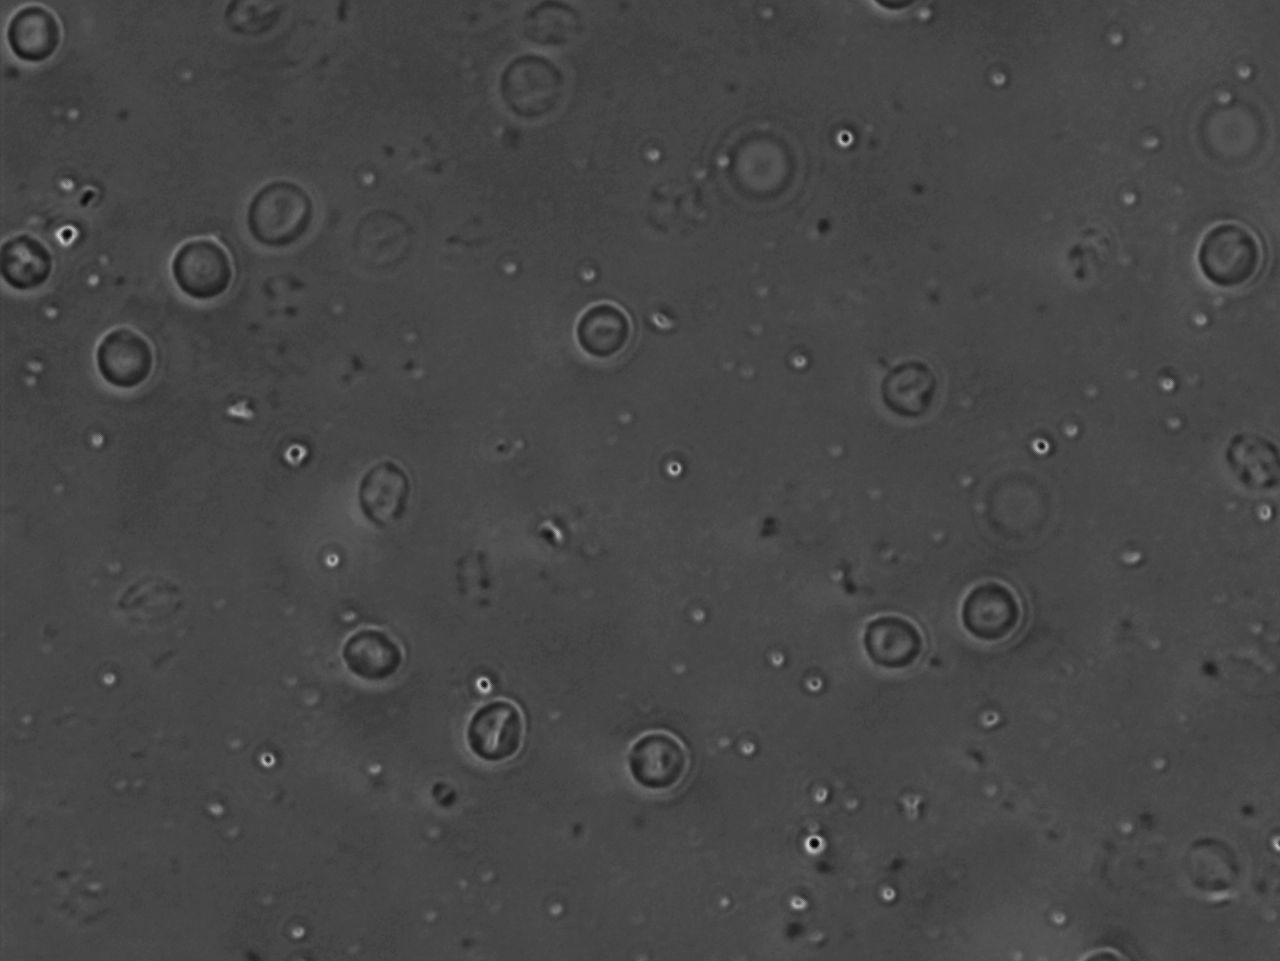depth:0: (1188, 209, 1280, 319), (231, 169, 328, 262), (853, 596, 940, 686), (455, 686, 547, 771), (607, 717, 698, 800), (949, 569, 1032, 661), (331, 609, 418, 696), (157, 226, 243, 312), (562, 289, 650, 372), (83, 319, 166, 401)
